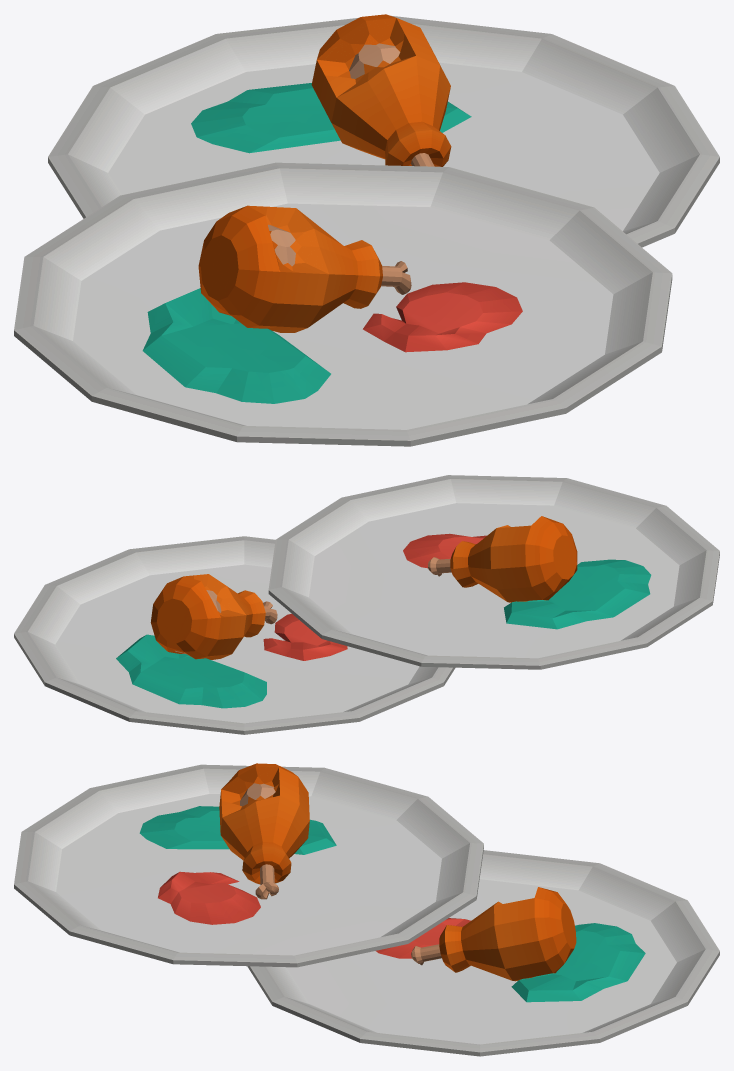
Rendered from plates.fbx.
The picture shows the model from 3 angles, top to bottom: view 1: azimuth 30°, elevation 25°; view 2: azimuth 150°, elevation 25°; view 3: azimuth 270°, elevation 25°; orthographic projection. The views are drawn at different scales.
Parts seen in each view (by area): view 1: Cylinder; view 2: Cylinder; view 3: Cylinder.
Boxes of the visible parts, x1,y1,x2,y2 form: Cylinder: [14, 14, 719, 446]; Cylinder: [14, 475, 719, 734]; Cylinder: [14, 763, 719, 1056].
Bounding box in the file's own units: 212 × 38.89 × 233.
Materials: 1 (1 with a texture image).
